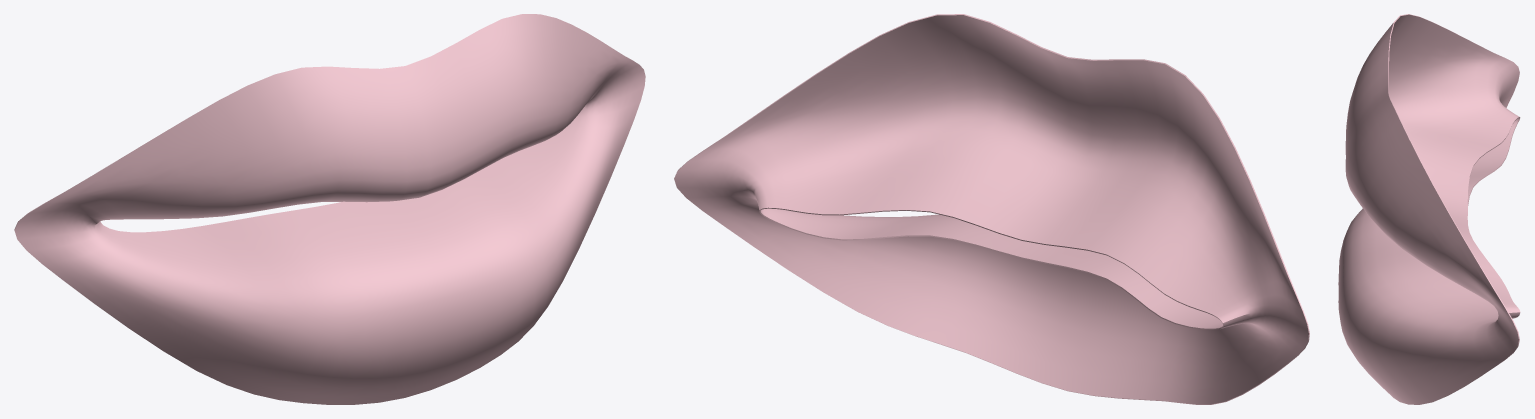
Rendered from Gilek lip.fbx.
The picture shows the model from 3 angles, left to right: view 1: azimuth 30°, elevation 25°; view 2: azimuth 150°, elevation 25°; view 3: azimuth 270°, elevation 25°; orthographic projection. The views are drawn at different scales.
Parts seen in each view (by area): view 1: Disc_4; view 2: Disc_4; view 3: Disc_4.
Part boxes in pixels (box(x1,y1,x2,y2)): Disc_4: box(14, 14, 645, 404); Disc_4: box(674, 14, 1309, 404); Disc_4: box(1338, 14, 1520, 404).
Size of the model in its own units: 122 by 64.84 by 34.97.
